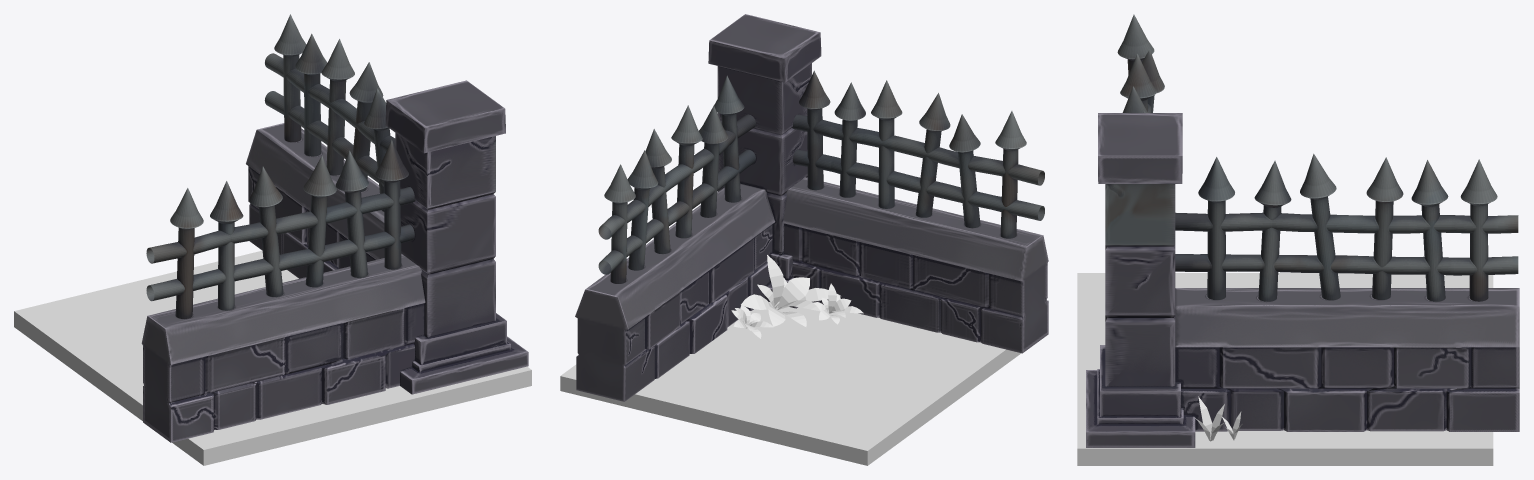
File: GraveyardFenceBRCorner_New.fbx
3 renders of one model, left to right at view 1: azimuth 30°, elevation 25°; view 2: azimuth 150°, elevation 25°; view 3: azimuth 270°, elevation 25°, orthographic. The views are drawn at different scales.
Visible parts, largest first — view 1: StoneFenceCorner_LP.007, NewFenceLeft.002; view 2: StoneFenceCorner_LP.007, NewFenceLeft.002, CornerGround_LP.029; view 3: StoneFenceCorner_LP.007, NewFenceLeft.002, CornerGround_LP.029.
Boxes of the visible parts, x1,y1,x2,y2 form: StoneFenceCorner_LP.007: (141, 14, 528, 442); NewFenceLeft.002: (14, 250, 531, 465); StoneFenceCorner_LP.007: (575, 14, 1048, 401); NewFenceLeft.002: (560, 302, 1020, 465); CornerGround_LP.029: (731, 255, 863, 338); StoneFenceCorner_LP.007: (1086, 14, 1519, 447); NewFenceLeft.002: (1077, 273, 1493, 465); CornerGround_LP.029: (1194, 396, 1242, 441).
Size of the model in its own units: 220 by 164 by 218.
